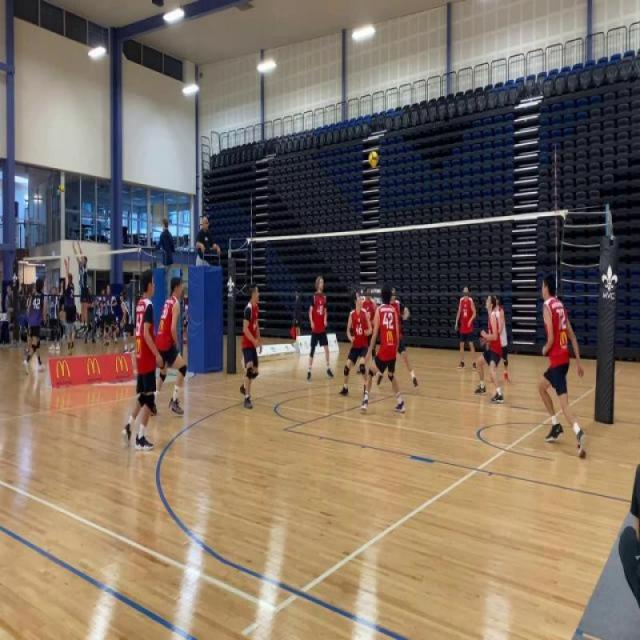volleyball: (367, 148, 380, 170), (59, 183, 66, 193)
